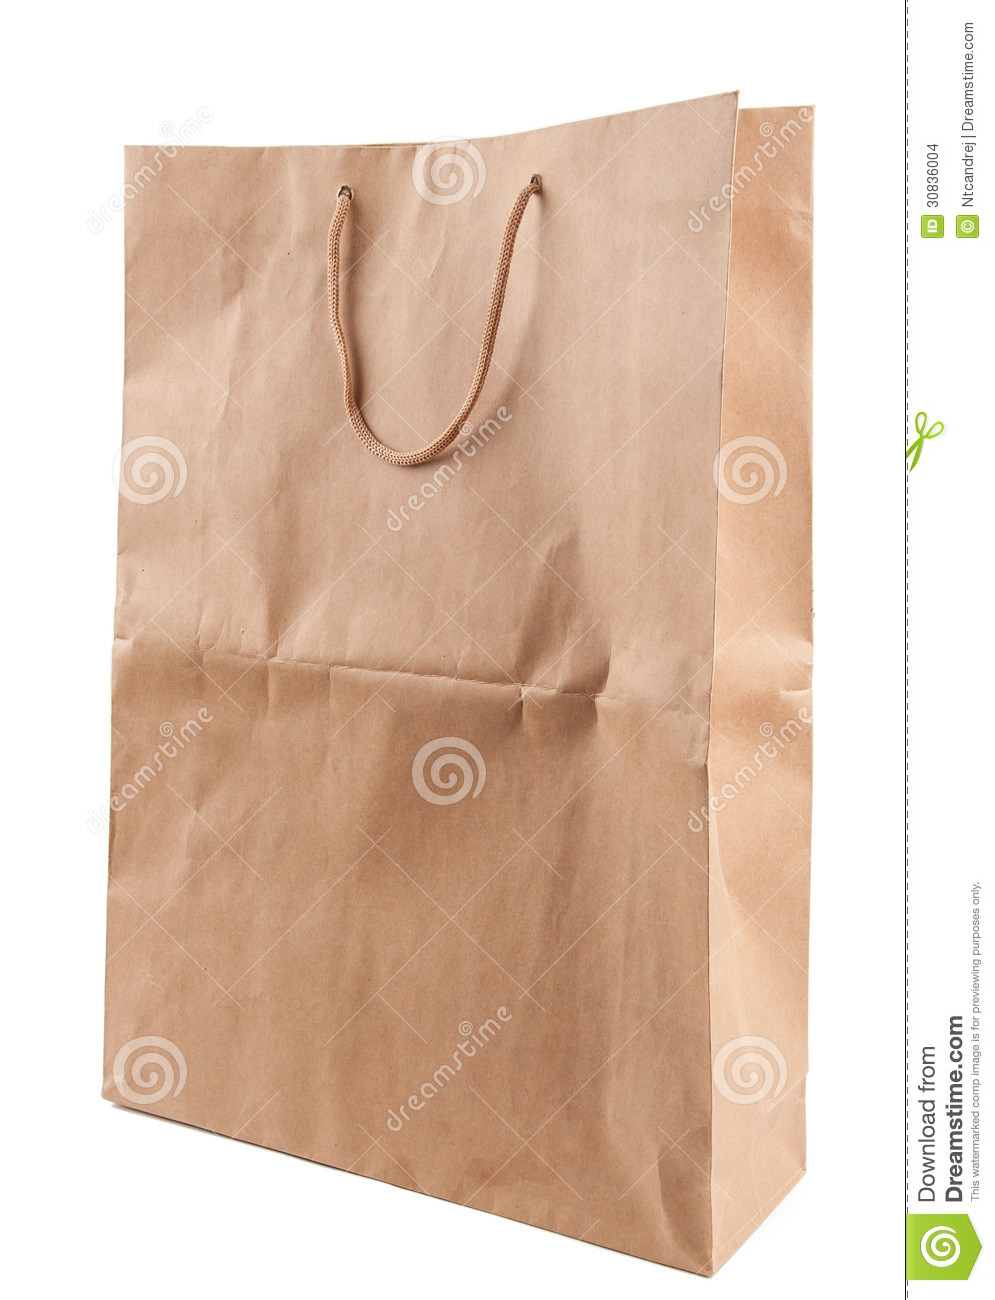flexible: (102, 90, 820, 1294)
